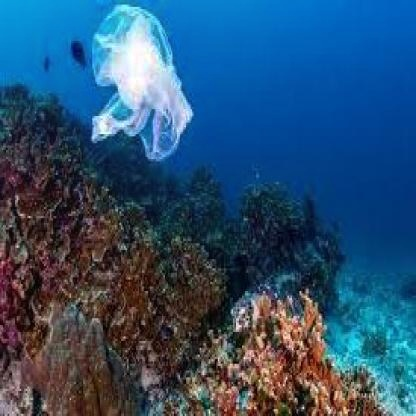pbag: (91, 5, 195, 162)
